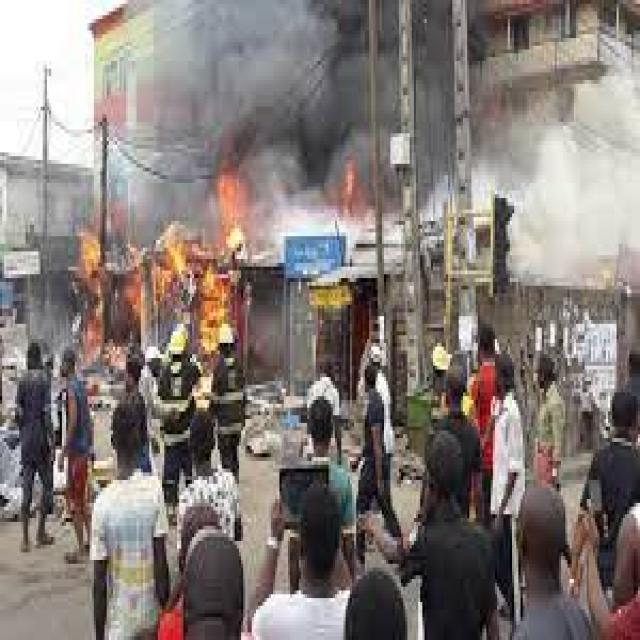fire: (115, 240, 237, 358), (70, 236, 104, 370), (216, 168, 241, 252)
smoke: (124, 4, 367, 248), (505, 38, 640, 270)
